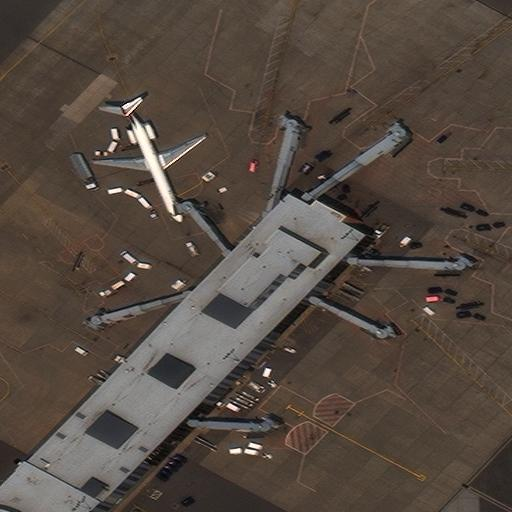Medium Civil Transport: (93, 106, 206, 223)
